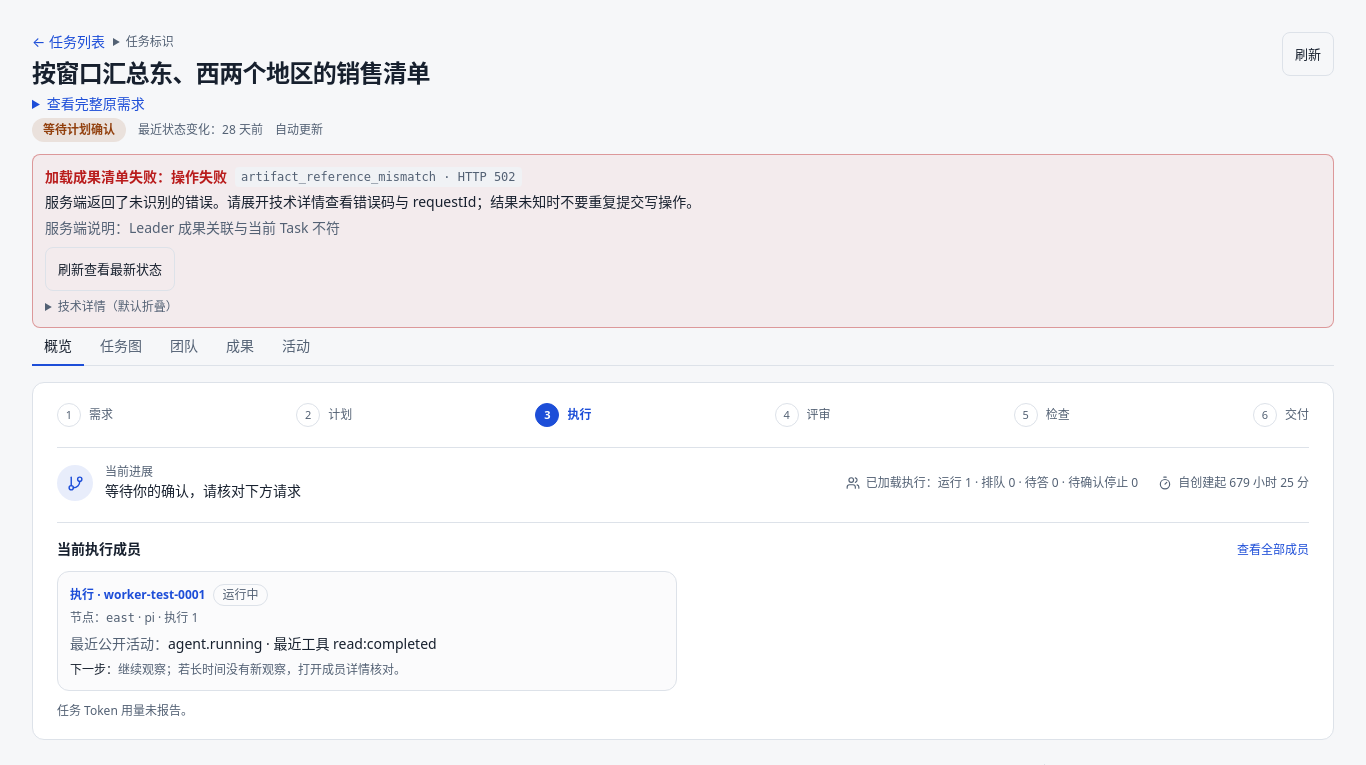
Test: 任务详情装配（四个子视图 + 数据装载） › 团队 tab 展示真实 Worker（workers.items）；活动 tab 空事件流如实显示
Click the link "团队".
click(184, 346)  # box [170,336,198,355]
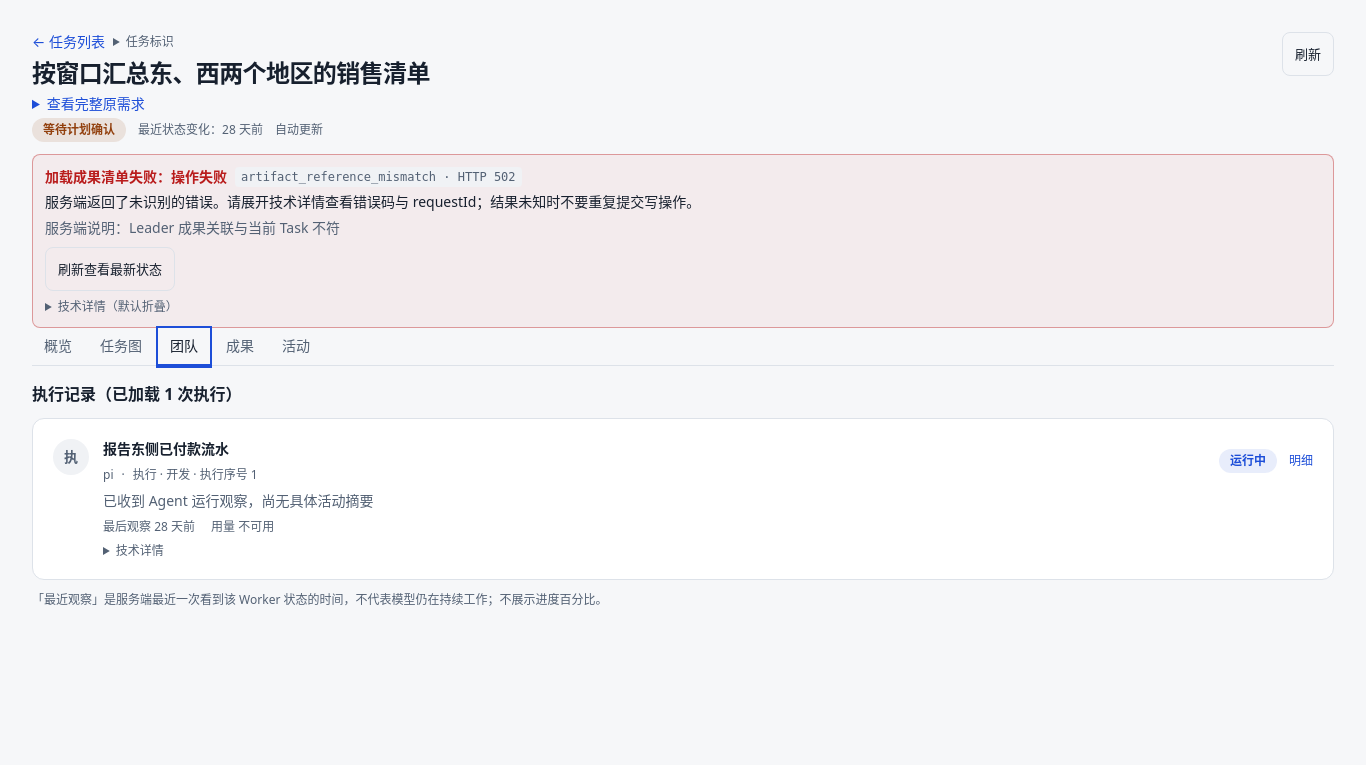
Click the link "活动".
click(296, 346)  # box [282,336,310,355]
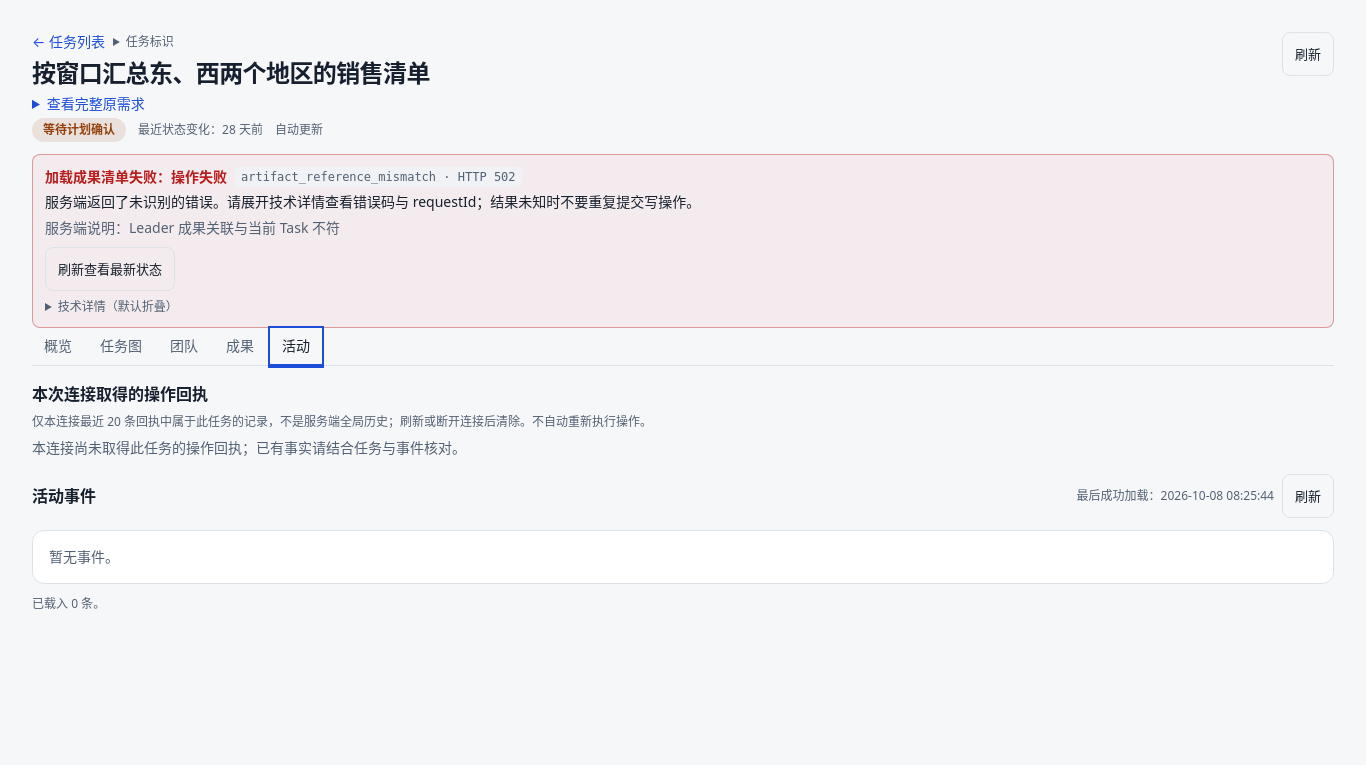
Expected: the element with test id "activity-view" shows "暂无事件", [49,547,119,566]
